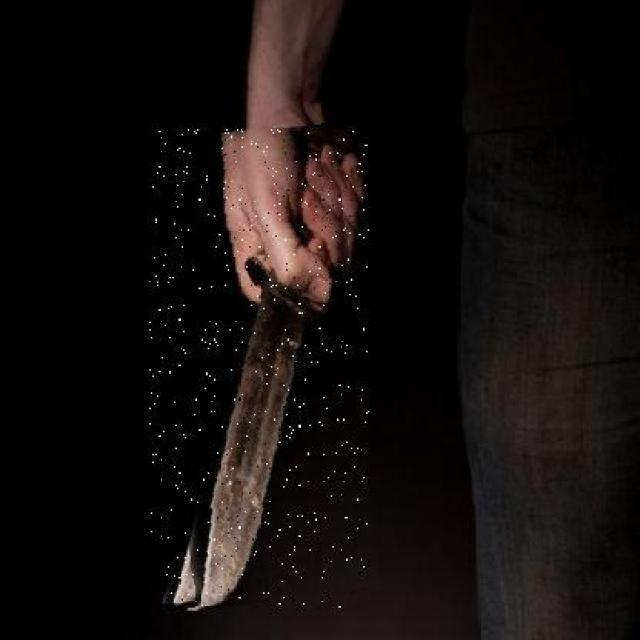knife: (149, 128, 369, 608)
